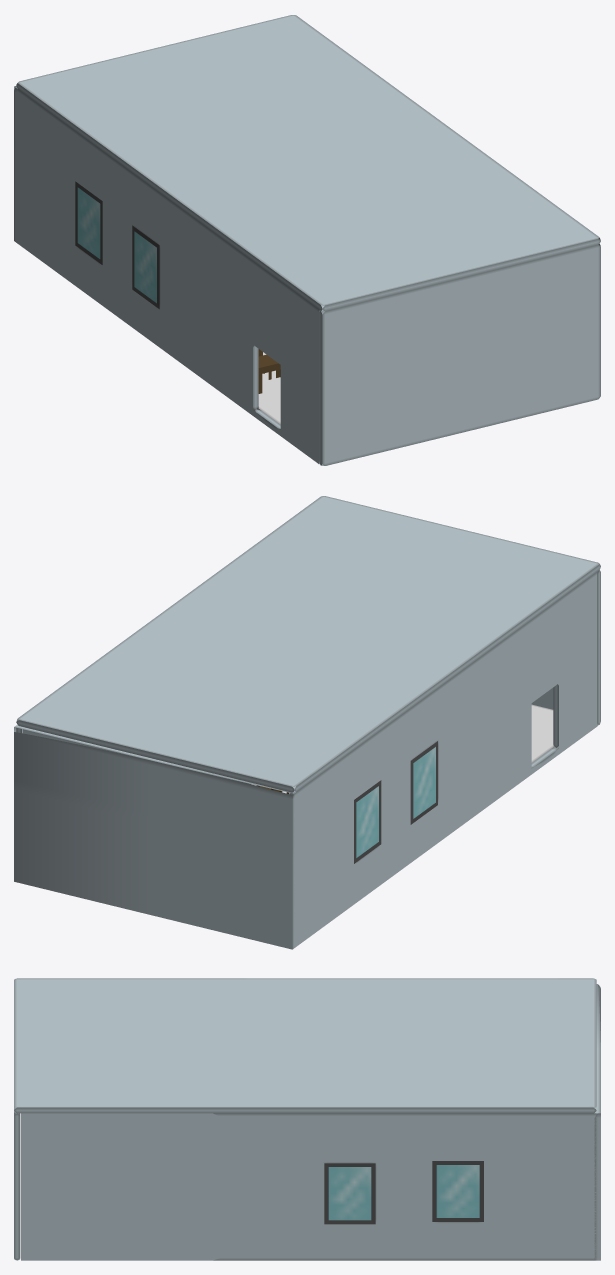
The model's file is indoorKelas.fbx.
3 renders of one model, top to bottom at view 1: azimuth 30°, elevation 25°; view 2: azimuth 150°, elevation 25°; view 3: azimuth 270°, elevation 25°, orthographic. The views are drawn at different scales.
Parts seen in each view (by area): view 1: atap, tembok_1, tembok, lantai; view 2: atap, tembok_1, tembok_2, lantai, tembok; view 3: tembok_3, atap, tembok_2, tembok.
Part boxes in pixels (box(x1,y1,x2,y2)): atap: box(16, 15, 600, 311); tembok_1: box(16, 88, 319, 463); tembok: box(319, 244, 600, 465); lantai: box(253, 352, 280, 429); atap: box(16, 496, 600, 792); tembok_1: box(289, 572, 597, 947); tembok_2: box(14, 724, 295, 949); lantai: box(251, 704, 558, 793); tembok: box(531, 570, 600, 725); tembok_3: box(21, 1113, 596, 1260); atap: box(14, 978, 596, 1113); tembok_2: box(594, 984, 600, 1260); tembok: box(14, 1106, 20, 1260).
Bounding box in the file's own units: 306 × 169 × 588.
Materials: 4 (4 with a texture image).
